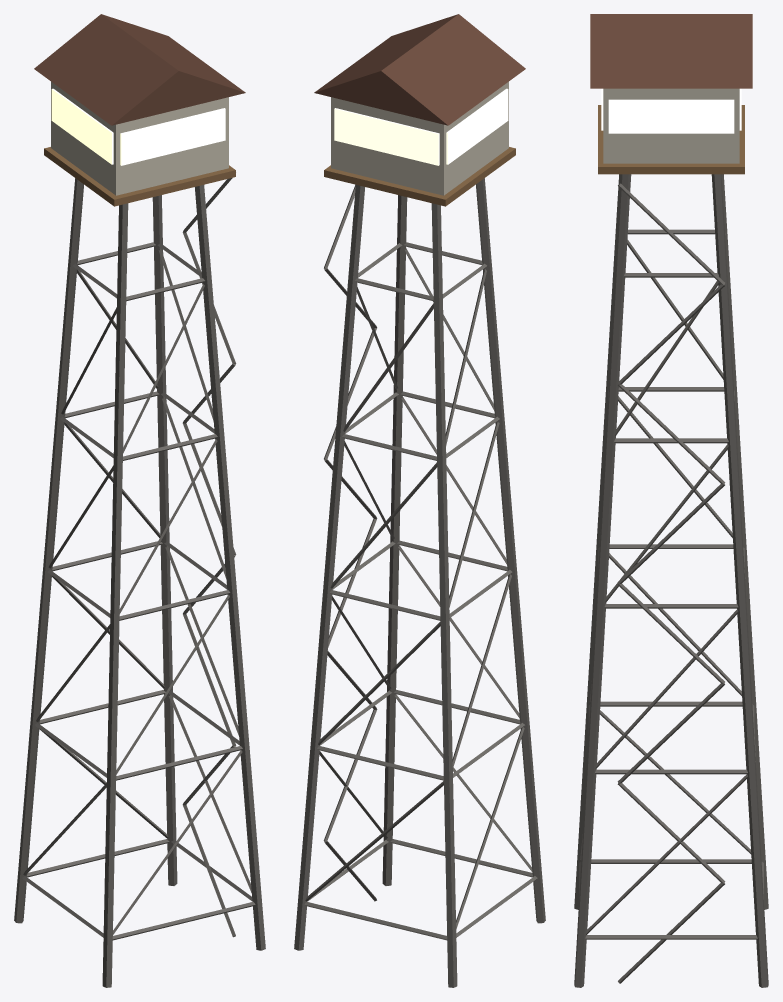
Rendered from fire_tower.glb.
3 views of the same model, side by side, from view 1: azimuth 30°, elevation 25°; view 2: azimuth 150°, elevation 25°; view 3: azimuth 270°, elevation 25° (orthographic). The views are drawn at different scales.
Visible parts, largest first — view 1: fire_tower; view 2: fire_tower; view 3: fire_tower.
Part boxes in pixels (x1=…): fire_tower: x1=14, y1=14, x2=265, y2=987; fire_tower: x1=294, y1=14, x2=545, y2=987; fire_tower: x1=574, y1=14, x2=768, y2=987.
Bounding box in the file's own units: 3.71 × 19.67 × 3.71.
